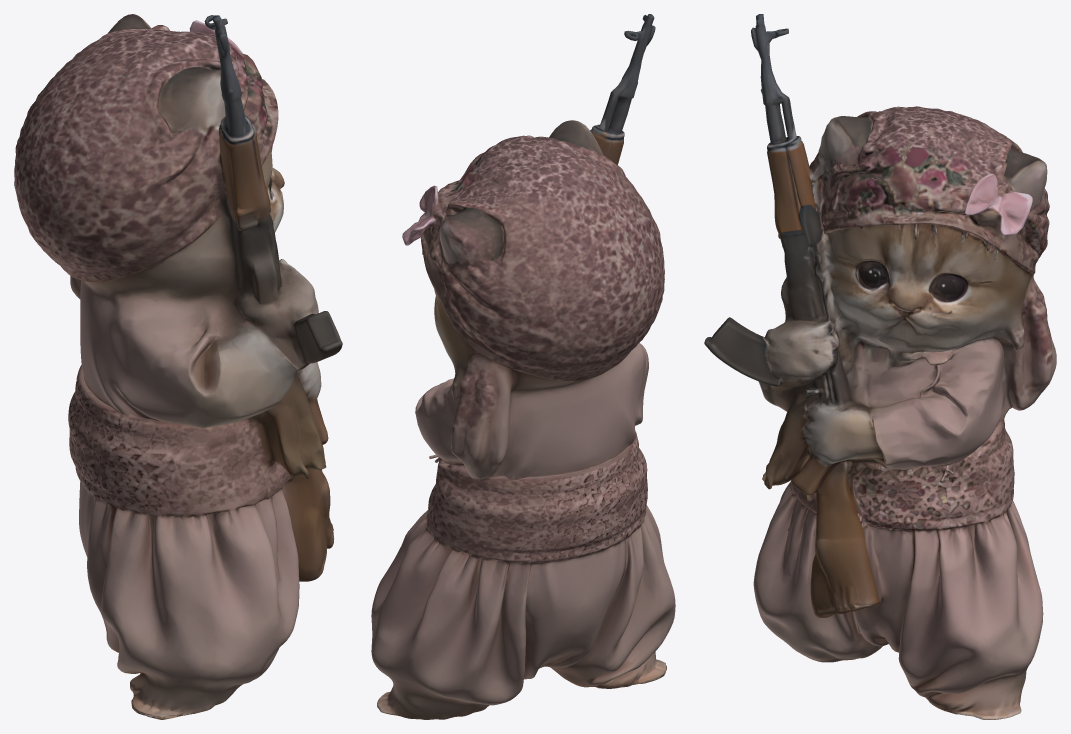
File: Tactical Kitten.glb
The picture shows the model from 3 angles, left to right: view 1: azimuth 30°, elevation 25°; view 2: azimuth 150°, elevation 25°; view 3: azimuth 270°, elevation 25°; orthographic projection. The views are drawn at different scales.
Visible parts, largest first — view 1: tripo_node_e96bf5fe-0ef4-499c-9fd5-fa6b675beca0; view 2: tripo_node_e96bf5fe-0ef4-499c-9fd5-fa6b675beca0; view 3: tripo_node_e96bf5fe-0ef4-499c-9fd5-fa6b675beca0.
Boxes of the visible parts, bbox=[...] form: tripo_node_e96bf5fe-0ef4-499c-9fd5-fa6b675beca0: bbox=[14, 14, 342, 719]; tripo_node_e96bf5fe-0ef4-499c-9fd5-fa6b675beca0: bbox=[371, 14, 675, 719]; tripo_node_e96bf5fe-0ef4-499c-9fd5-fa6b675beca0: bbox=[704, 14, 1056, 719].
Bounding box in the file's own units: 0.4097 × 0.9789 × 0.4944.
1 material, 1 textured.
